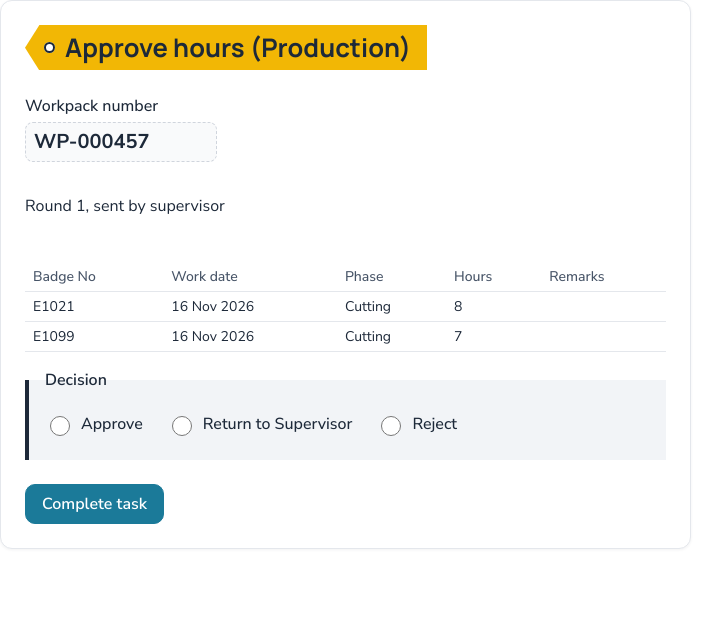
Test: ApproveHoursProduction › BPA56_noDecisionIsBlocked
Expected: the text "E1021" is shown, [25,292,163,322]
Click the button "Complete task" at (94, 504), box [25,484,164,524]
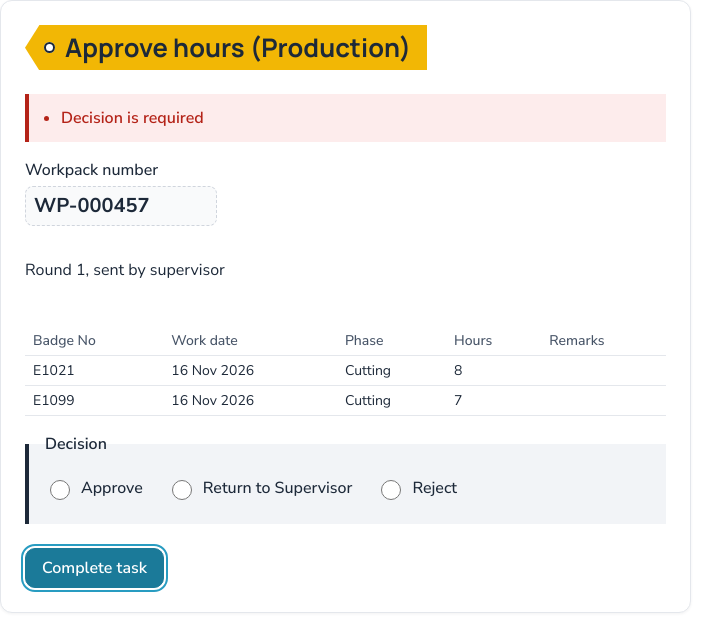
Now the list item "Decision is required" is shown, box [61,107,204,129]
